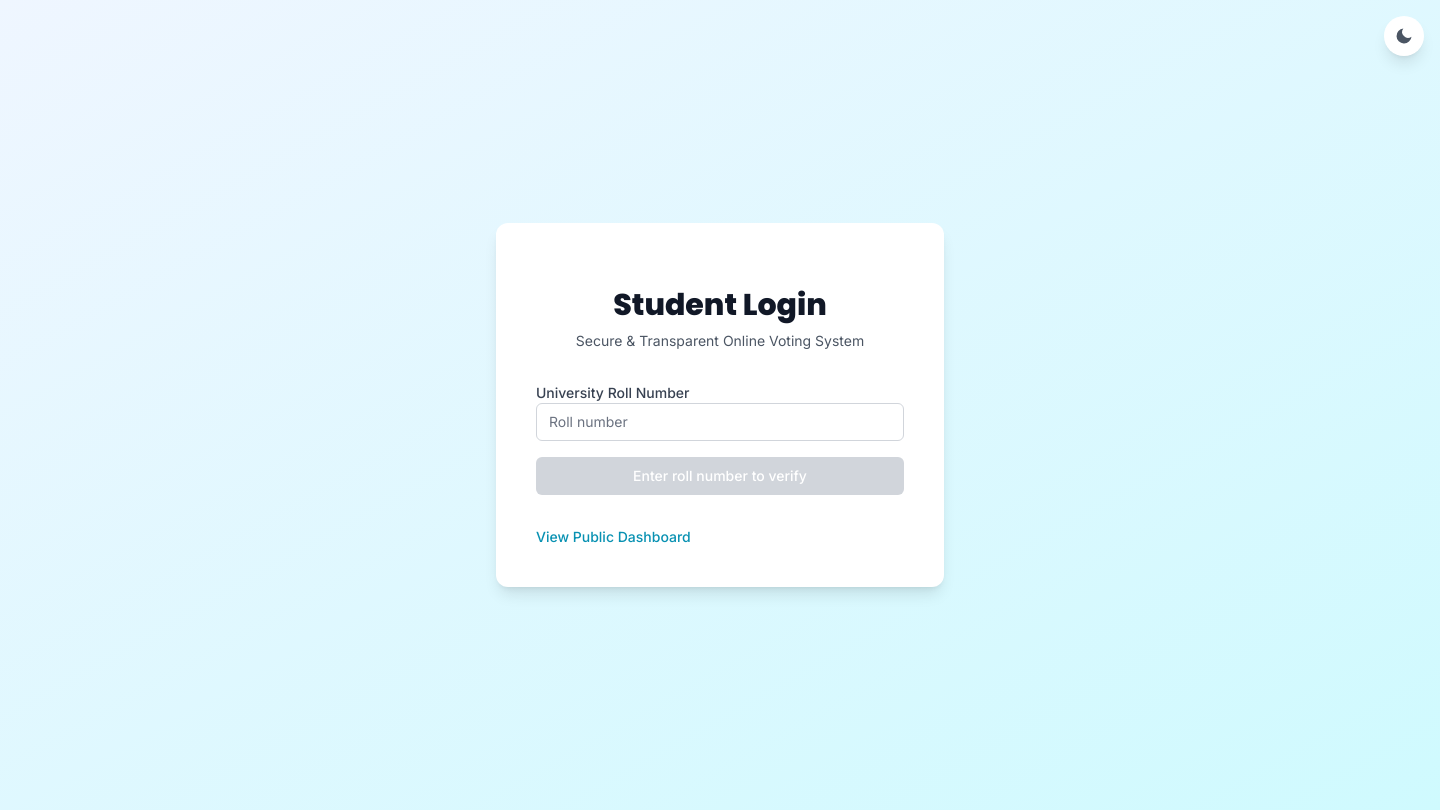
Test: Login flow › backend requires mobile fallback when requesting OTP
Type "U1234567" into the field with placeholder "Roll Number" at (720, 422), box [536, 403, 904, 441]
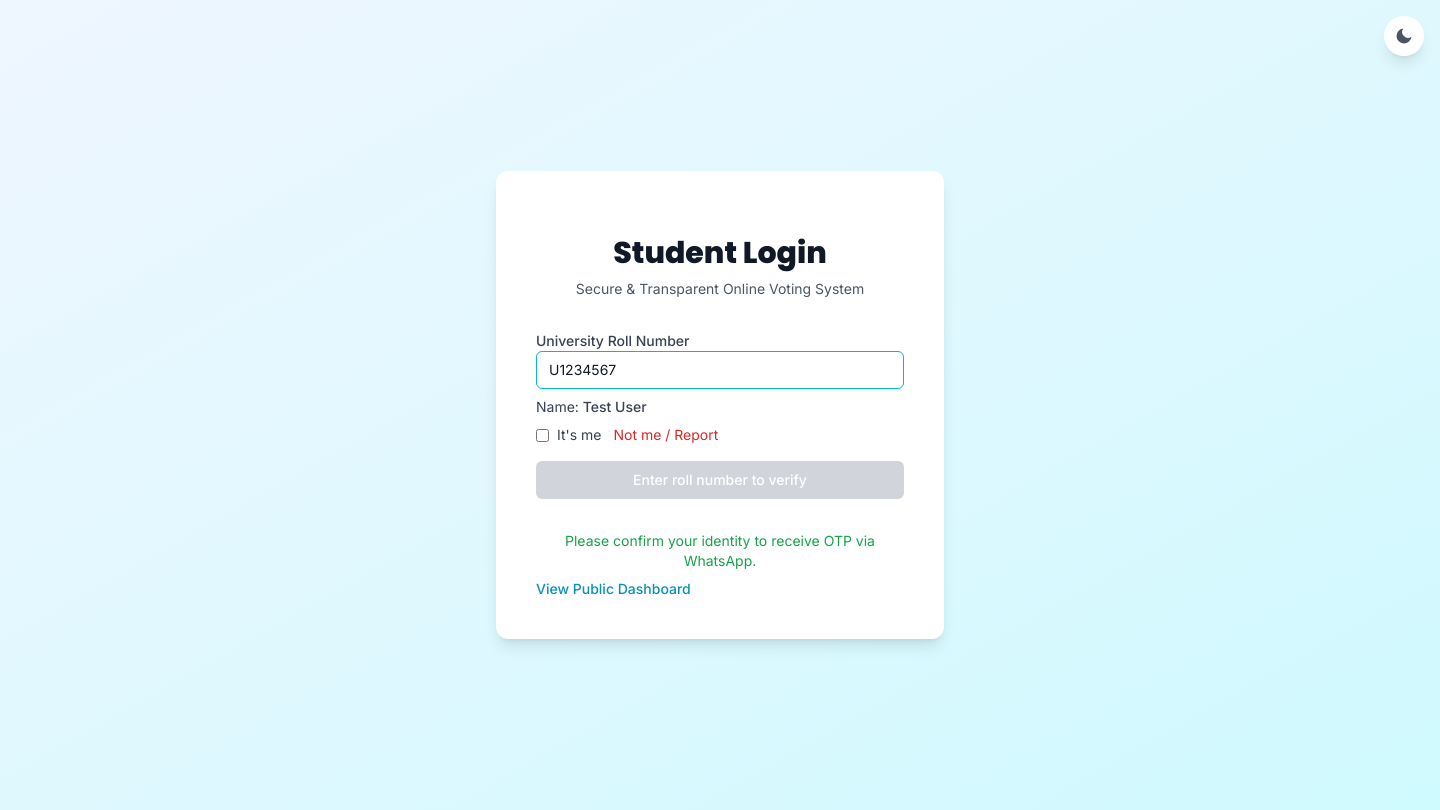
Expected: the text "Name: Test User" is shown, [536, 398, 647, 415]
